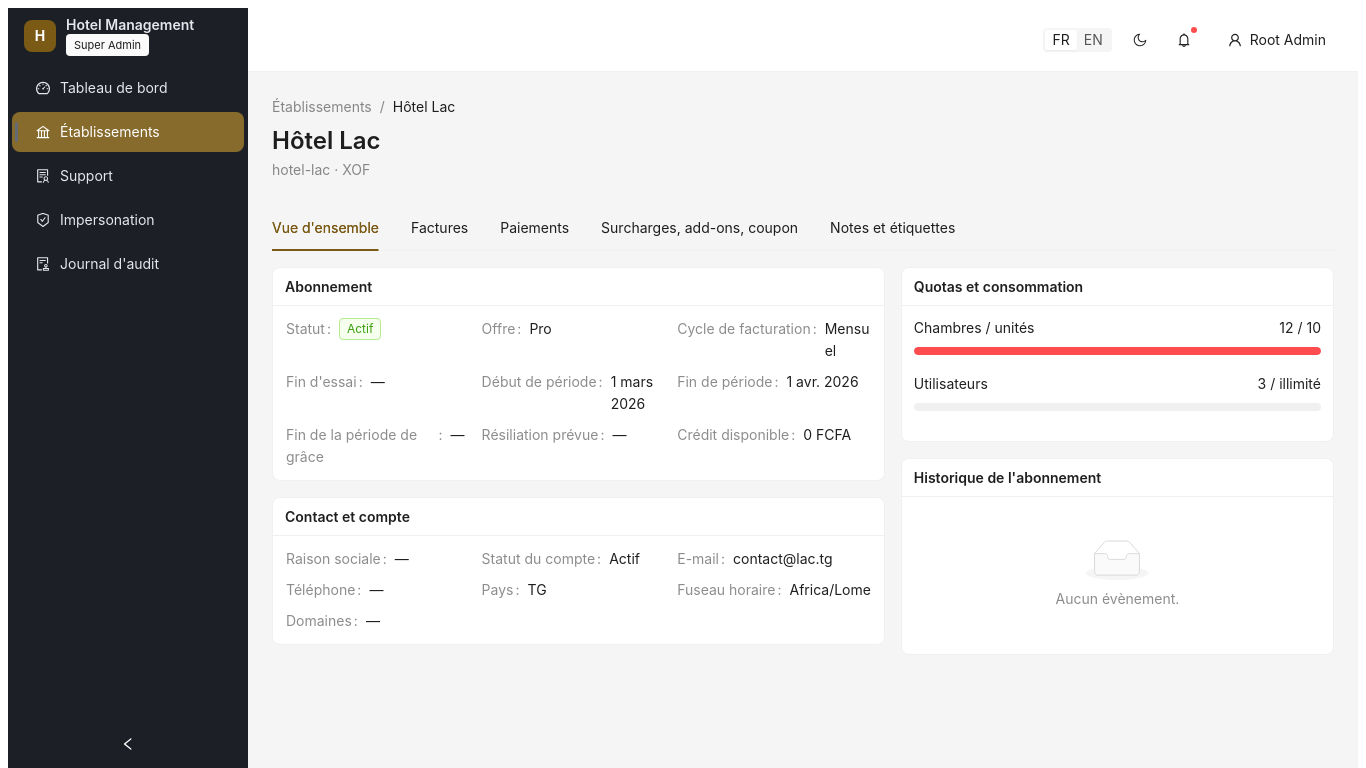
it: tenant detail › SUPPORT reads the tenant and can edit notes, but has no subscription action
Expected: the text "Chambres / unités" is shown, [914, 317, 1034, 339]
Click the tab "Notes et étiquettes".
click(893, 228)  # box [830, 217, 955, 239]
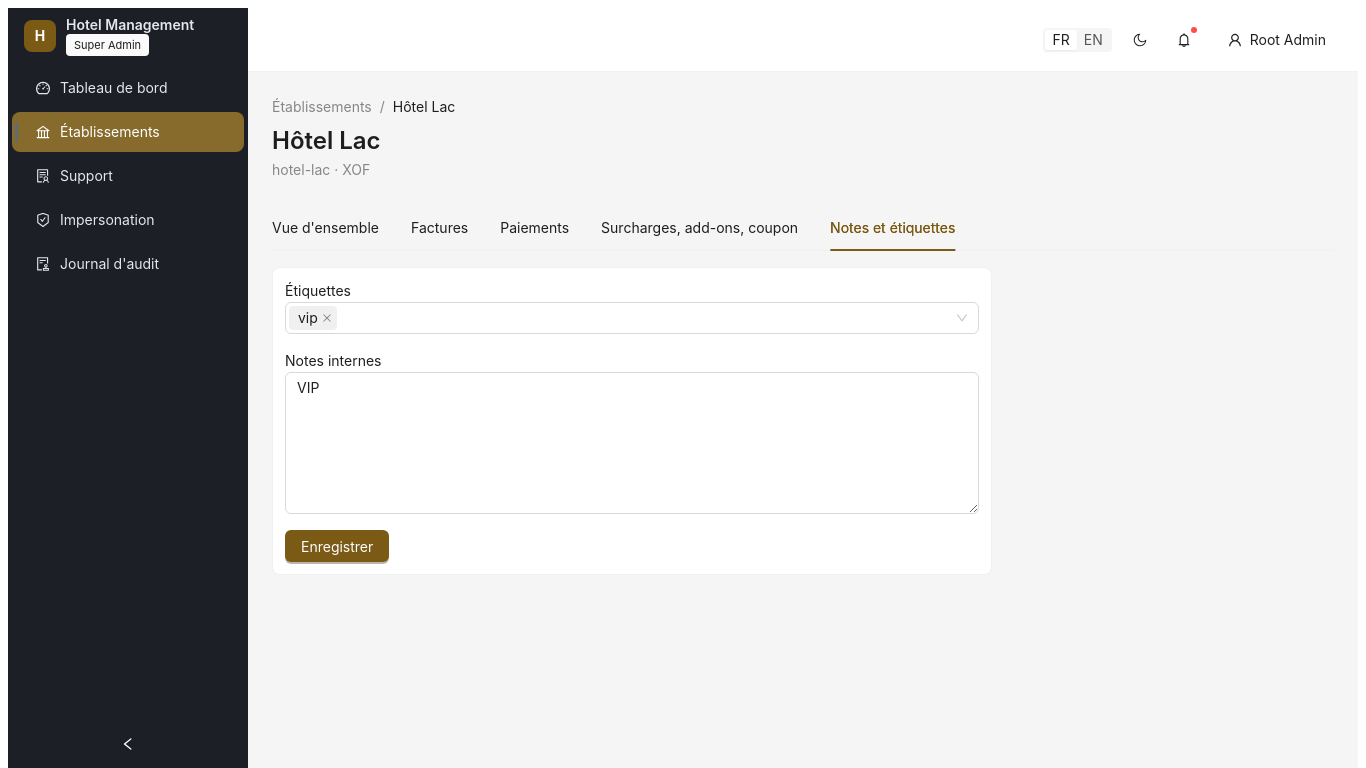
Expected: the button "Enregistrer" is shown, [285, 530, 389, 562]
